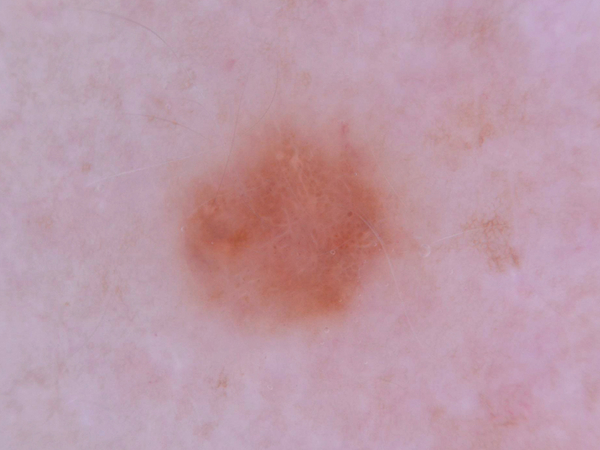Detected Lesion: (174, 120, 401, 327)
